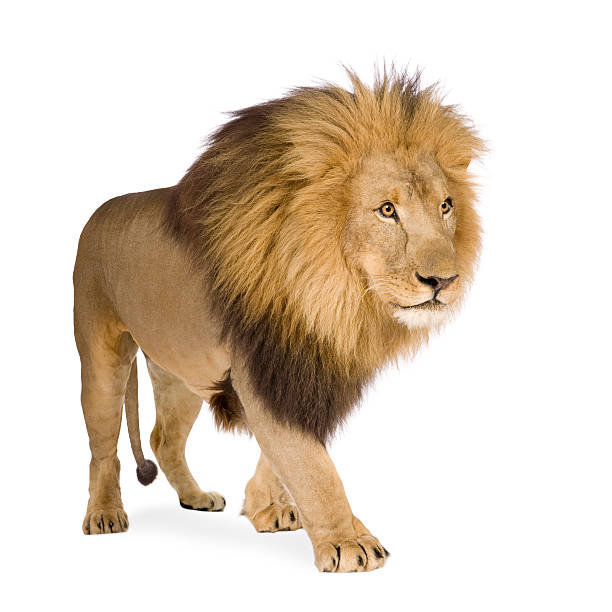lion: (150, 31, 540, 499)
